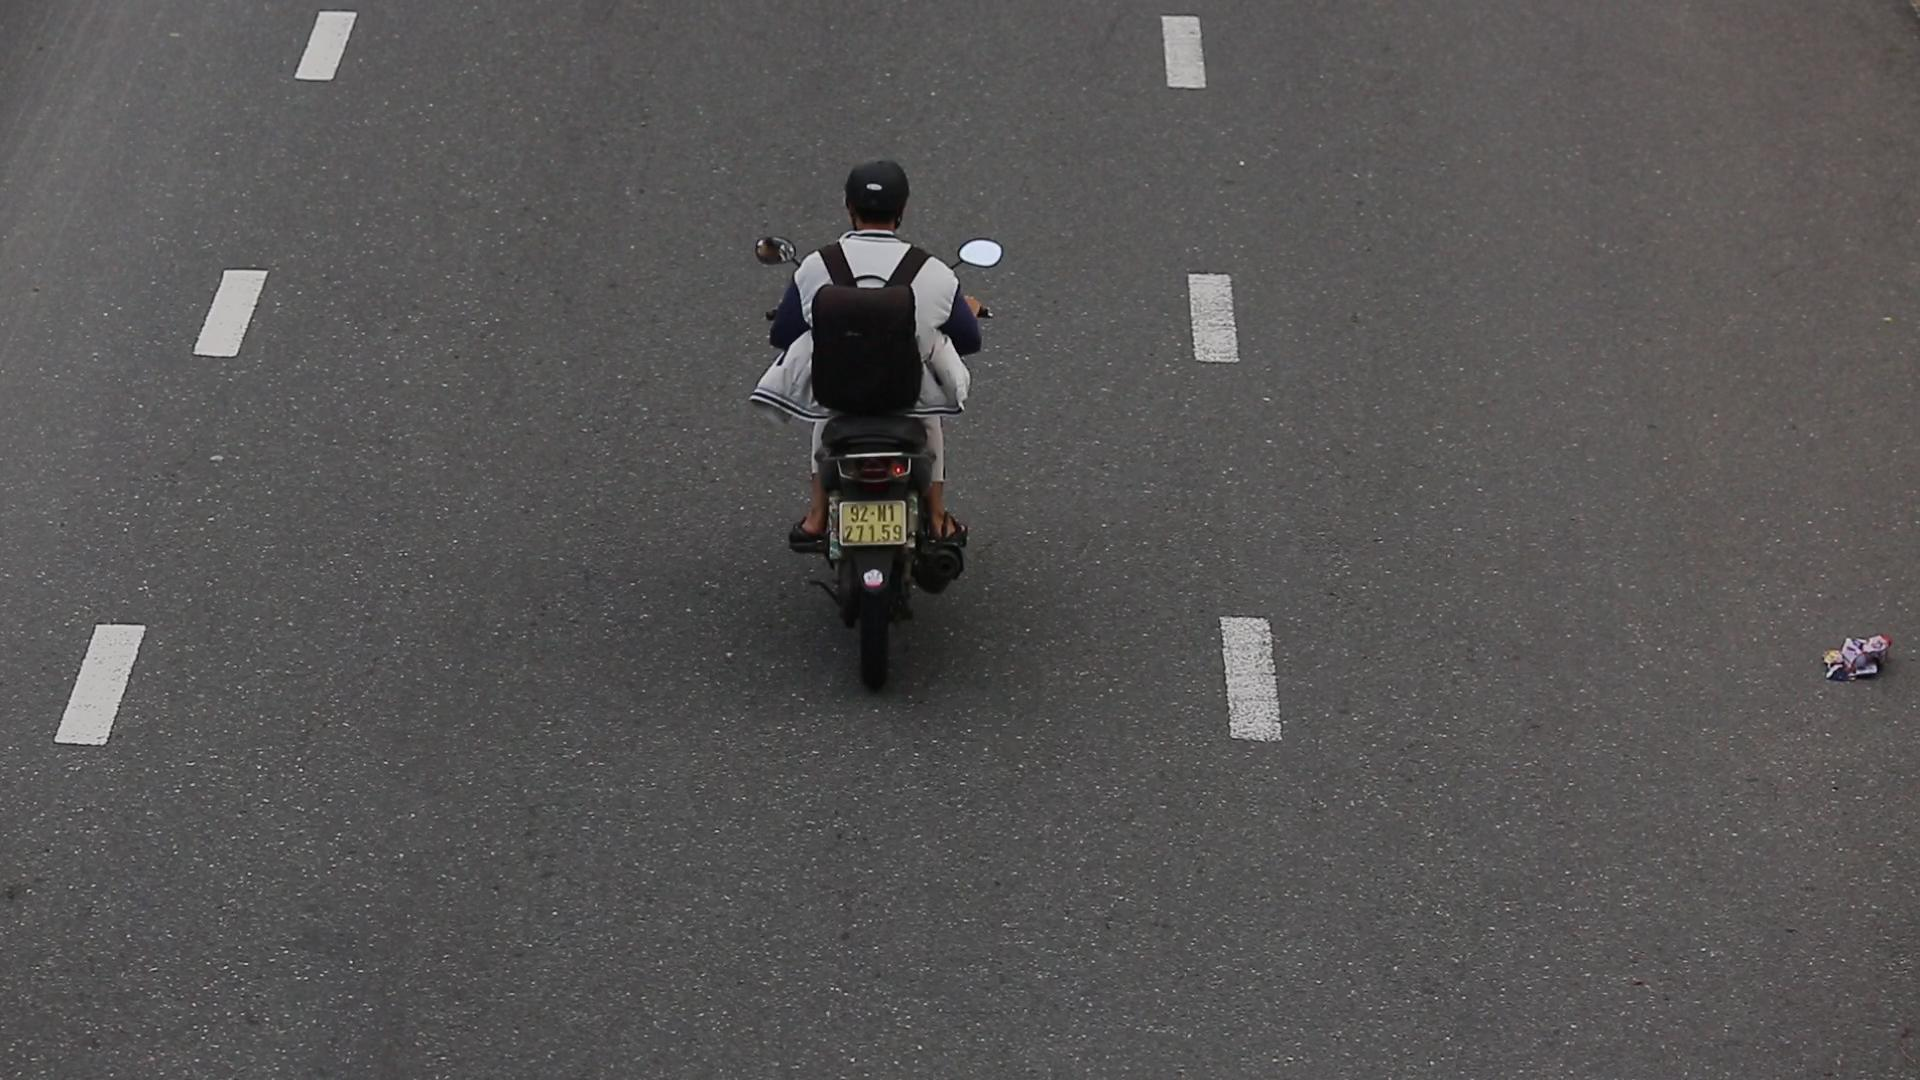motobike: (716, 157, 1014, 746)
